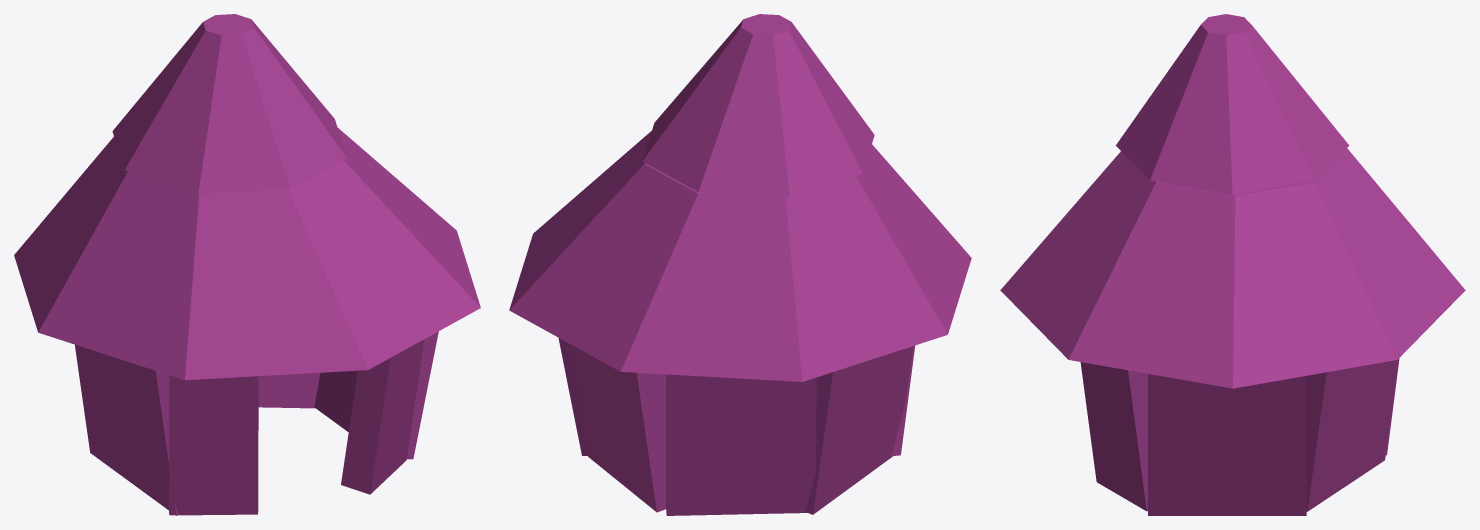
The model's file is SM_Bld_Tent_Leader_01_Collision.fbx.
3 views of the same model, side by side, from view 1: azimuth 30°, elevation 25°; view 2: azimuth 150°, elevation 25°; view 3: azimuth 270°, elevation 25° (orthographic). The views are drawn at different scales.
Visible parts, largest first — view 1: SM_Bld_Tent_Leader_01_Collision; view 2: SM_Bld_Tent_Leader_01_Collision; view 3: SM_Bld_Tent_Leader_01_Collision.
Part boxes in pixels (<box>): SM_Bld_Tent_Leader_01_Collision: <box>14,14,480,515</box>; SM_Bld_Tent_Leader_01_Collision: <box>509,14,971,515</box>; SM_Bld_Tent_Leader_01_Collision: <box>1000,14,1465,515</box>.
Size of the model in its own units: 693 by 696 by 693.
